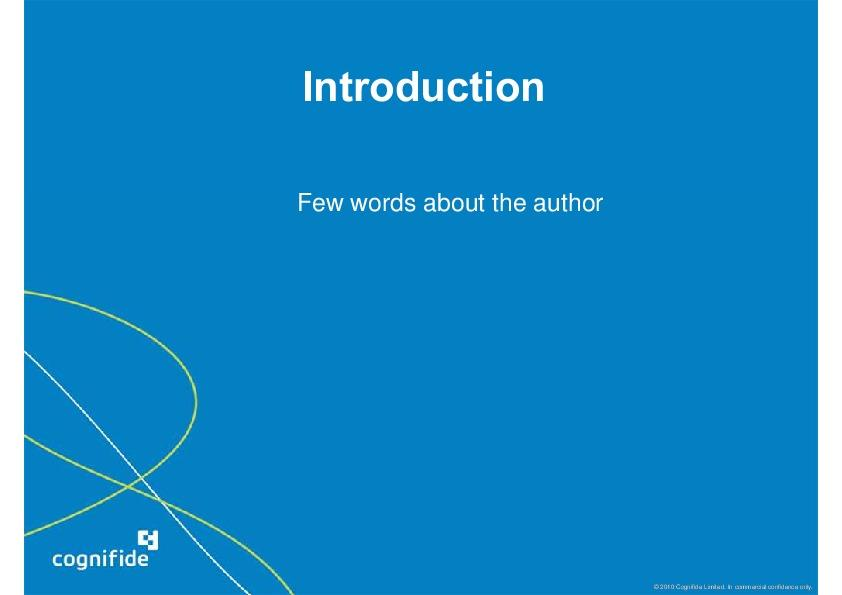subtitle: (284, 175, 626, 234)
title: (287, 43, 559, 126)
